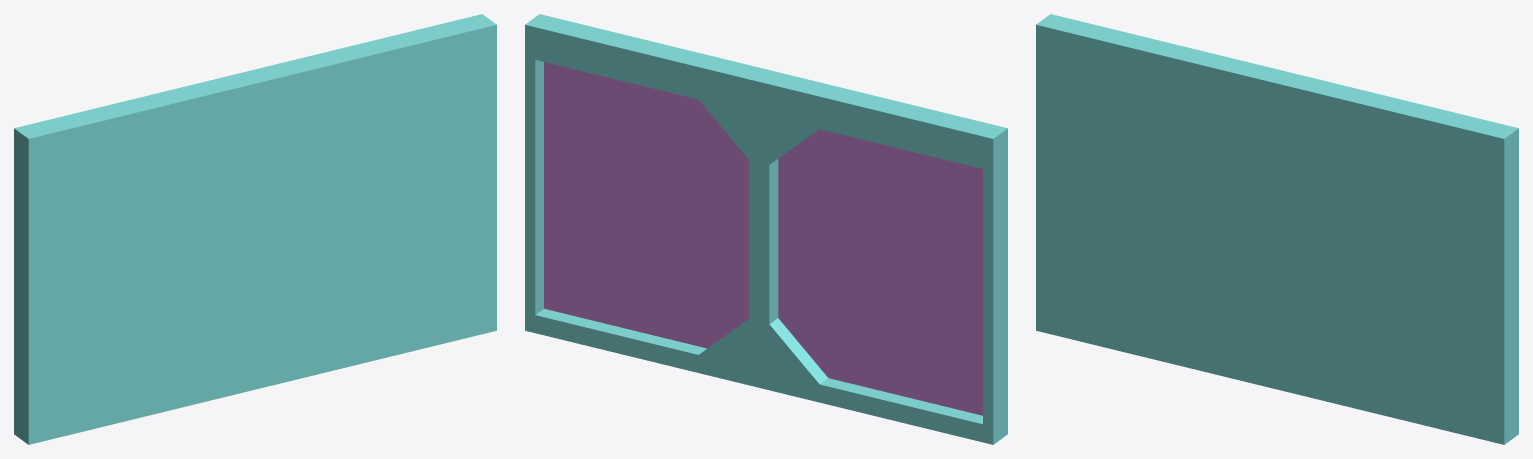
Rendered from kapilar.fbx.
3 views of the same model, side by side, from view 1: azimuth 30°, elevation 25°; view 2: azimuth 150°, elevation 25°; view 3: azimuth 330°, elevation 25° (orthographic).
Parts seen in each view (by area): view 1: kapi sag, kapi sol; view 2: kapi sag, kapi sol; view 3: kapi sol, kapi sag.
Boxes of the visible parts, bbox=[...] form: kapi sag: bbox=[14, 71, 262, 444]; kapi sol: bbox=[248, 14, 496, 387]; kapi sag: bbox=[759, 71, 1007, 444]; kapi sol: bbox=[525, 14, 773, 387]; kapi sol: bbox=[1270, 71, 1518, 444]; kapi sag: bbox=[1036, 14, 1284, 387].
Size of the model in its own units: 3360 by 2098 by 182.
